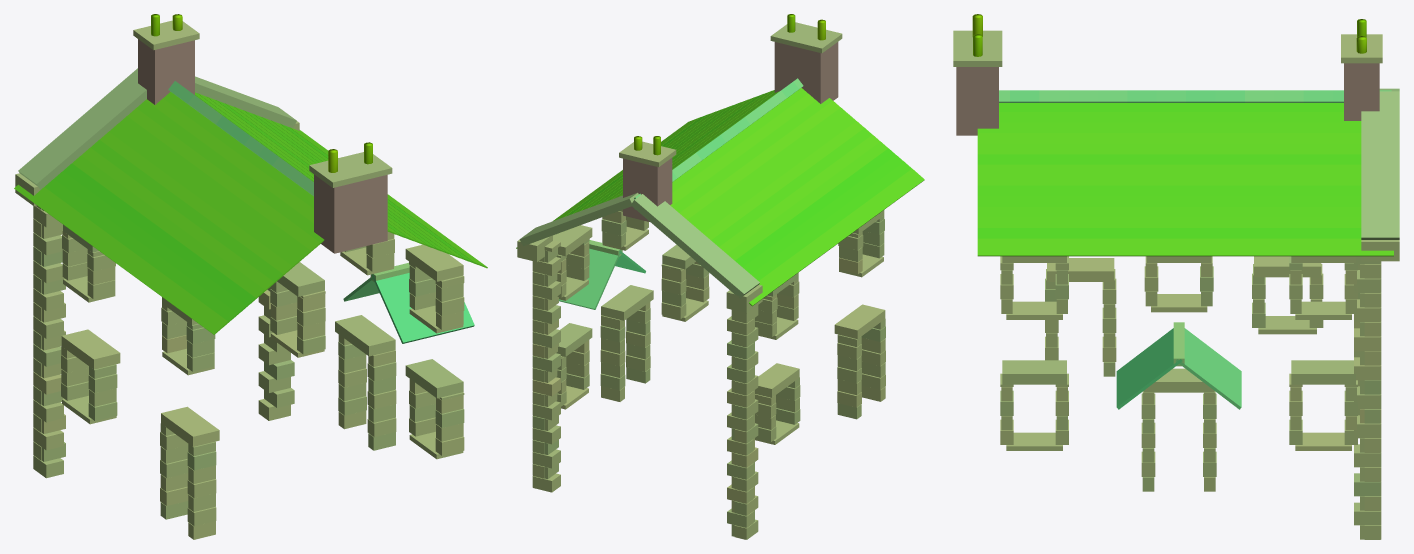
The model's file is SM_Bld_199_Stone.glb.
3 renders of one model, left to right at view 1: azimuth 30°, elevation 25°; view 2: azimuth 150°, elevation 25°; view 3: azimuth 270°, elevation 25°, orthographic. The views are drawn at different scales.
Visible parts, largest first — view 1: SM_Bld_199_Stone; view 2: SM_Bld_199_Stone; view 3: SM_Bld_199_Stone.
Boxes of the visible parts, left/top/right/bottom form: SM_Bld_199_Stone: left=14, top=14, right=487, bottom=539; SM_Bld_199_Stone: left=516, top=14, right=924, bottom=539; SM_Bld_199_Stone: left=953, top=14, right=1399, bottom=539.
Size of the model in its own units: 7.39 by 9.33 by 8.36.
